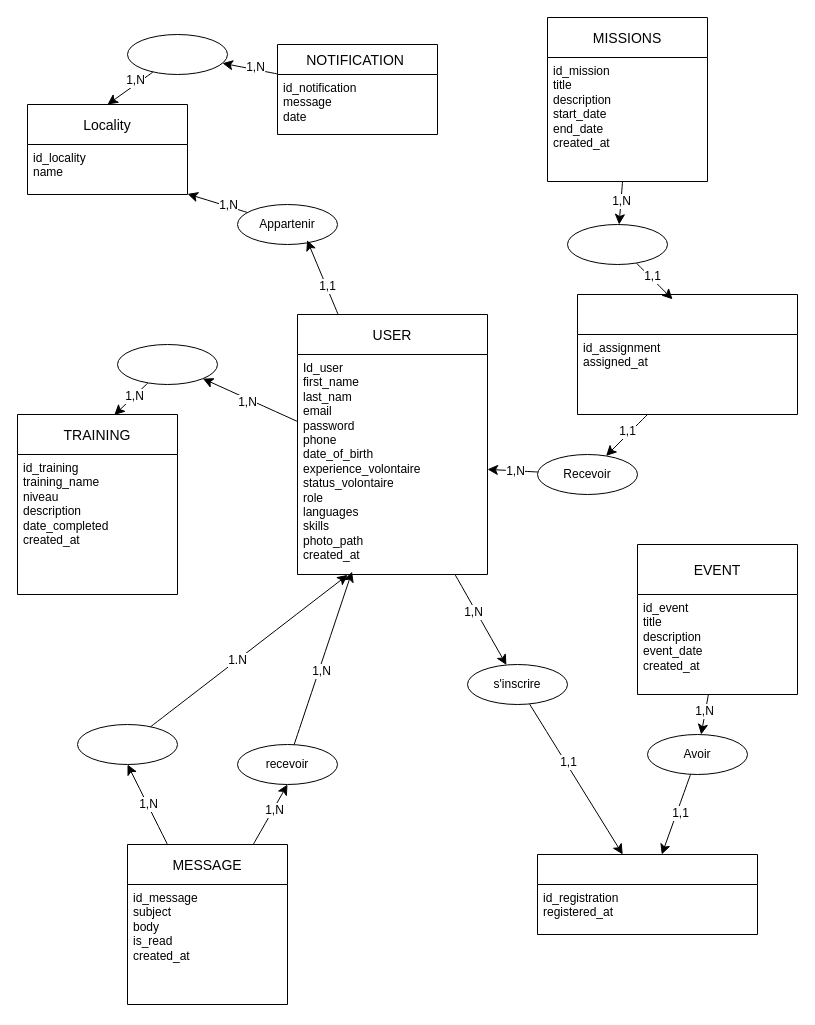
Image size: 815x1025. Some labels were removed from this diagram. Here are the shapes that lost their labels. From the top down, the box of each, then its label:
(126, 34, 228, 74): cibler
(566, 224, 668, 264): concerner
(116, 344, 218, 384): suivre
(576, 294, 798, 414): MISSION_ASSIGNMENT
(76, 724, 178, 764): envoyer
(536, 854, 758, 934): EVENT_REGISTRATION
